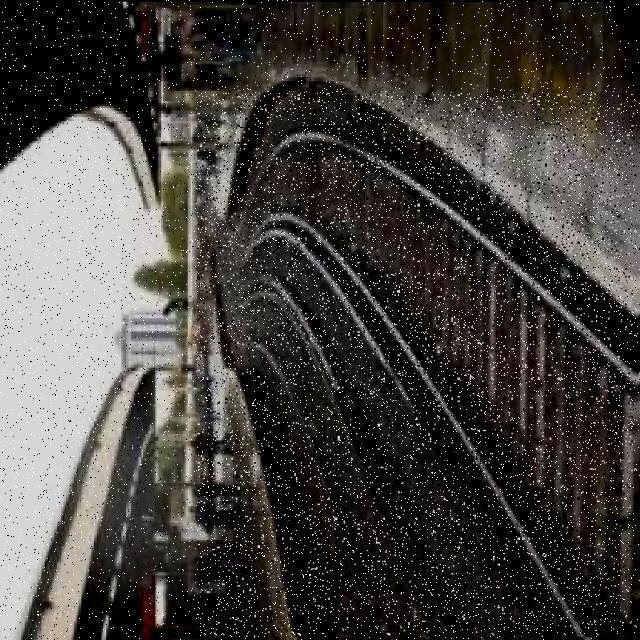rail: (198, 92, 636, 634)
